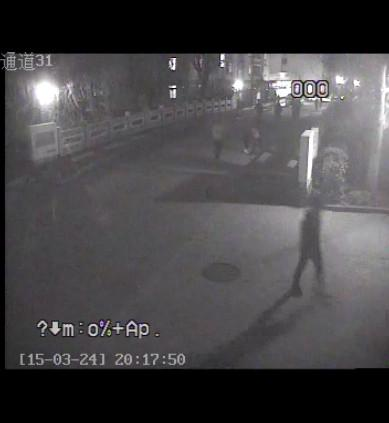person: (288, 190, 337, 303), (209, 116, 227, 161), (236, 119, 250, 158), (251, 114, 264, 151)
